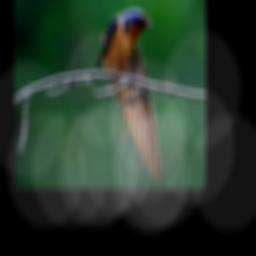Swallow: (90, 8, 163, 184)
